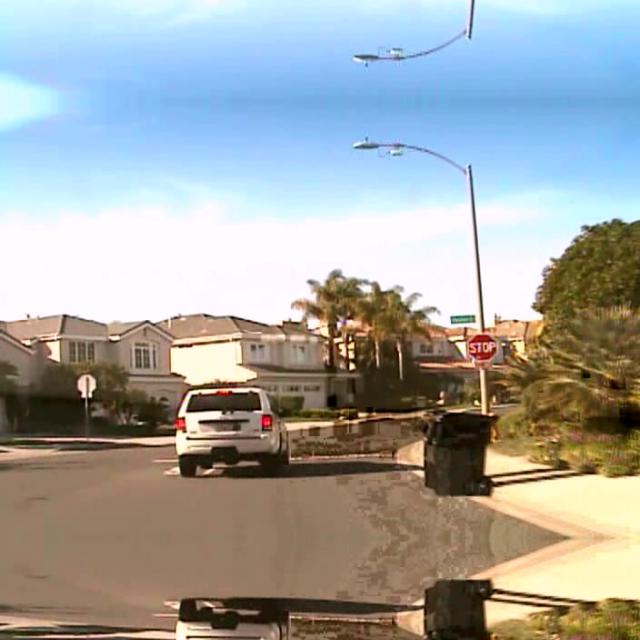stop: (466, 332, 496, 360)
